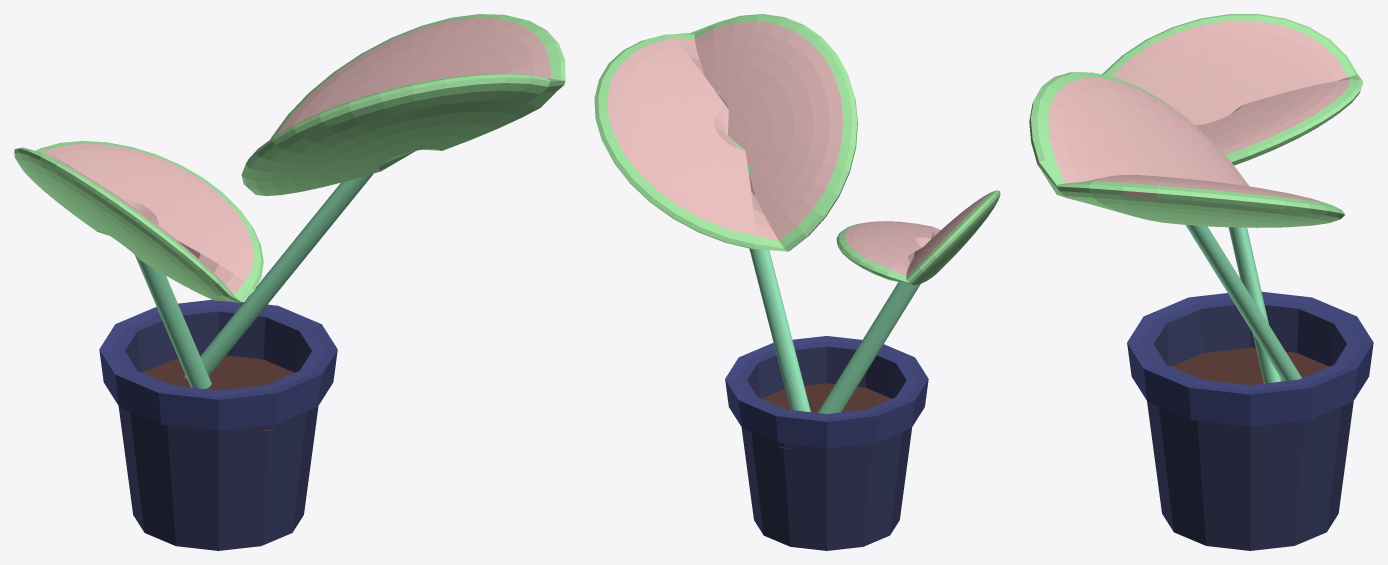
Rendered from bellaPlant.fbx.
3 views of the same model, side by side, from view 1: azimuth 30°, elevation 25°; view 2: azimuth 150°, elevation 25°; view 3: azimuth 270°, elevation 25° (orthographic). The views are drawn at different scales.
Parts seen in each view (by area): view 1: Cylinder; view 2: Cylinder; view 3: Cylinder.
Part boxes in pixels (left/top/right/bottom): Cylinder: left=14, top=14, right=565, bottom=550; Cylinder: left=594, top=14, right=1000, bottom=550; Cylinder: left=1029, top=14, right=1373, bottom=550.
Size of the model in its own units: 494 by 489 by 310.
